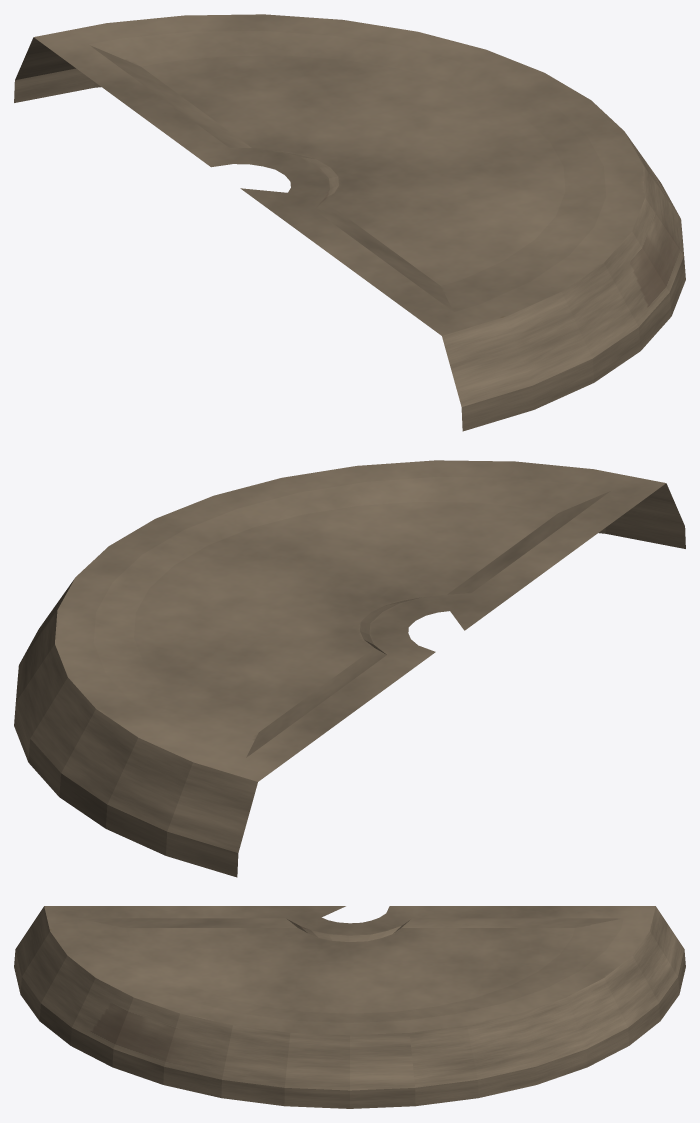
The model's file is keypad cover right.glb.
The picture shows the model from 3 angles, top to bottom: view 1: azimuth 30°, elevation 25°; view 2: azimuth 150°, elevation 25°; view 3: azimuth 270°, elevation 25°; orthographic projection. The views are drawn at different scales.
Visible parts, largest first — view 1: Keypad cover.001; view 2: Keypad cover.001; view 3: Keypad cover.001.
Boxes of the visible parts, x1,y1,x2,y2 form: Keypad cover.001: [14, 14, 685, 431]; Keypad cover.001: [14, 460, 685, 877]; Keypad cover.001: [14, 906, 685, 1108].
Size of the model in its own units: 0.7344 by 0.146 by 1.47.
Materials: 1 (1 with a texture image).
